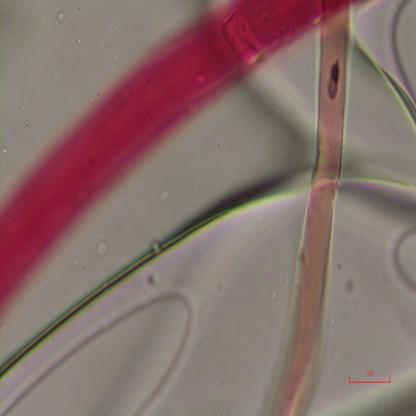Background material: (8, 188, 287, 416), (350, 0, 416, 136), (241, 81, 315, 154), (344, 170, 416, 240), (341, 360, 416, 416), (385, 222, 416, 284), (94, 233, 112, 257), (57, 12, 67, 20), (22, 119, 30, 128)
Microfibre: (0, 0, 360, 306), (269, 0, 355, 414)
